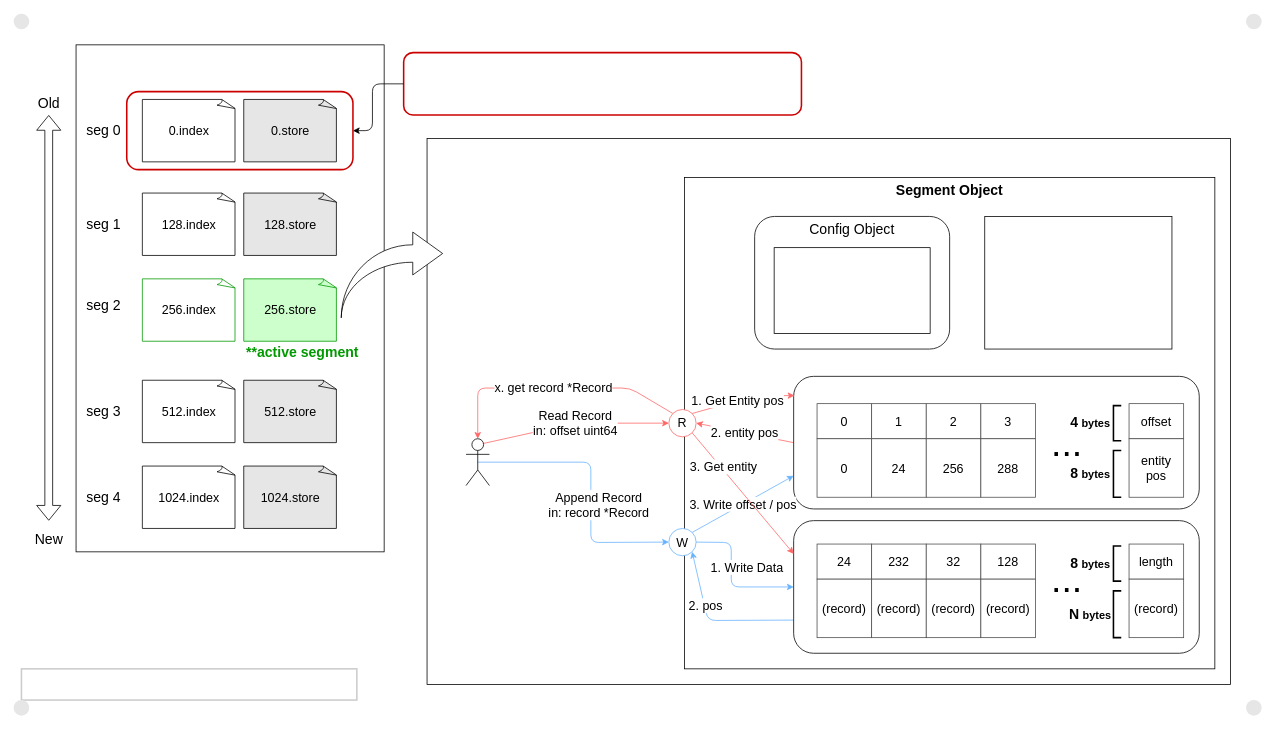
Image size: 1275x729. Some labels were removed from this diagram. Each missing label, with the box of its shape:
Actor: (465, 438, 489, 486)
baseOffset = 256 nextOffset = 512 (lowestOffset = 256) (highestOffset = 511): (984, 216, 1172, 349)
Index Object: (793, 376, 1199, 509)
InitialOffset MaxIndexBytes MaxStoreBytes: (773, 247, 930, 333)
Log Structure: (75, 44, 384, 552)
segment index is 0 this segment has records which base offset is from 0 to 127: (402, 51, 802, 115)
Segment System: (426, 138, 1230, 684)
Store Object: (793, 520, 1199, 653)
What is memory-mapped file ? | Microsoft Docs: (20, 668, 357, 700)
